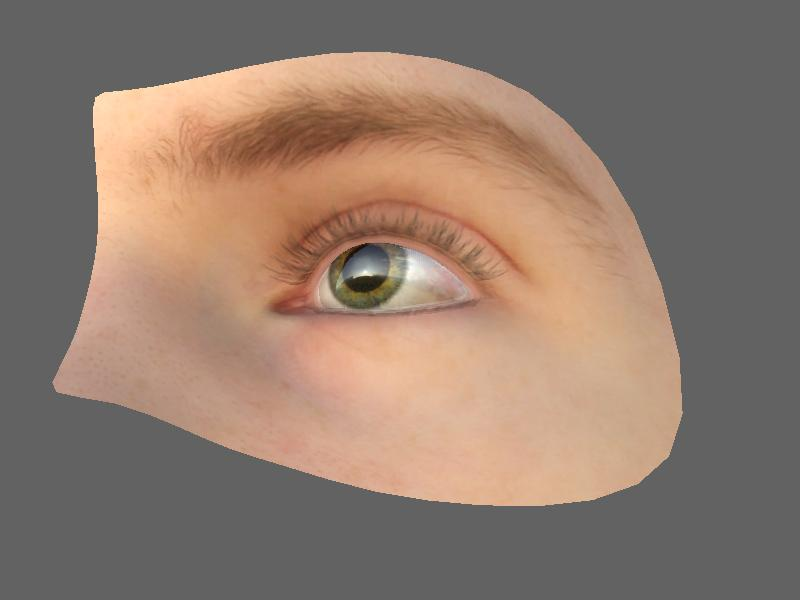iris: (322, 240, 411, 303)
